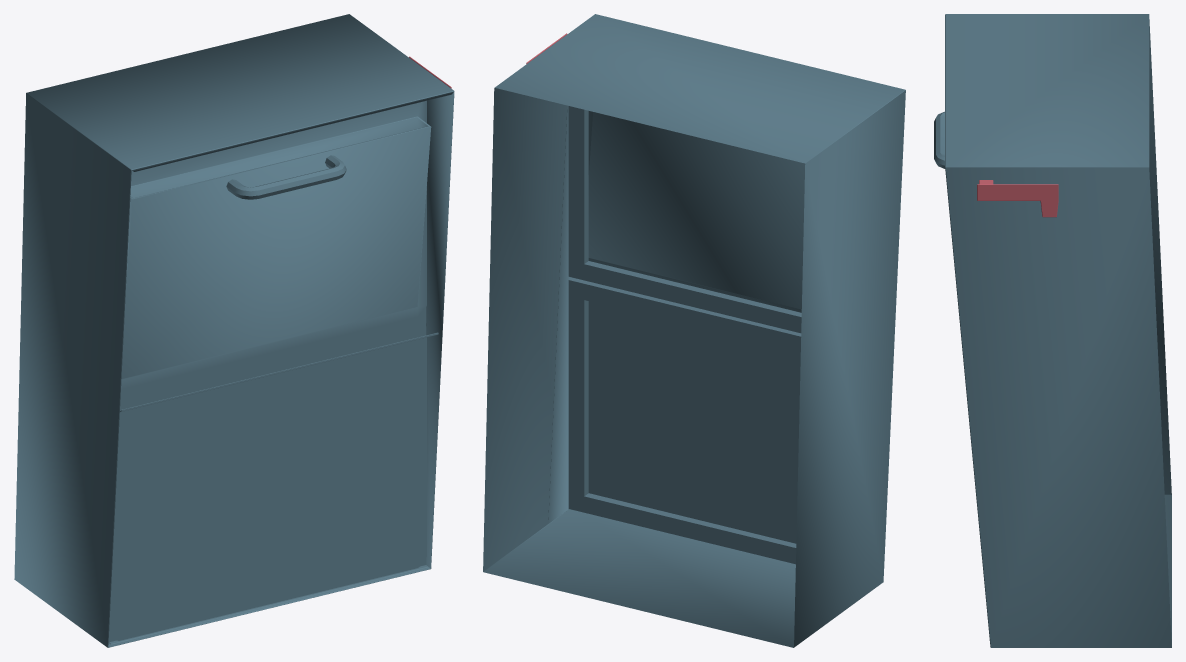
File: Postbox1.fbx
3 views of the same model, side by side, from view 1: azimuth 30°, elevation 25°; view 2: azimuth 150°, elevation 25°; view 3: azimuth 270°, elevation 25° (orthographic). The views are drawn at different scales.
Parts seen in each view (by area): view 1: postbox_low; view 2: postbox_low; view 3: postbox_low.
Part boxes in pixels (left/top/right/bottom): postbox_low: left=14, top=14, right=454, bottom=647; postbox_low: left=483, top=14, right=905, bottom=647; postbox_low: left=934, top=14, right=1171, bottom=647.
Size of the model in its own units: 41.67 by 58.54 by 26.23.
